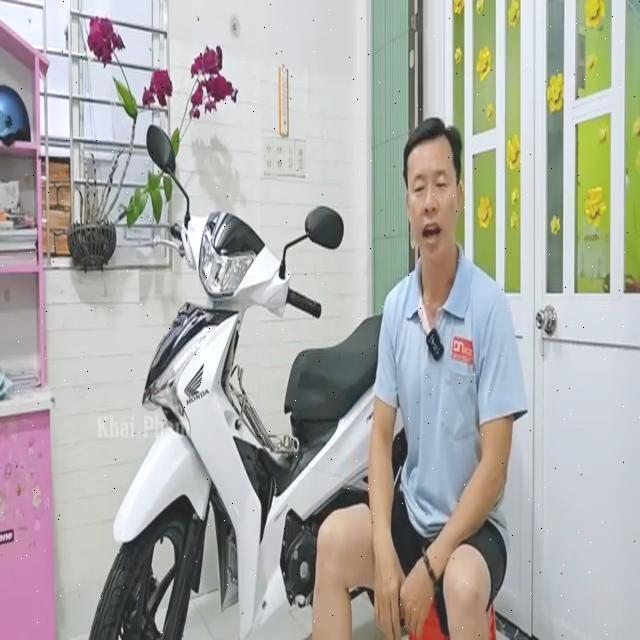motorcycle: (89, 122, 427, 640)
